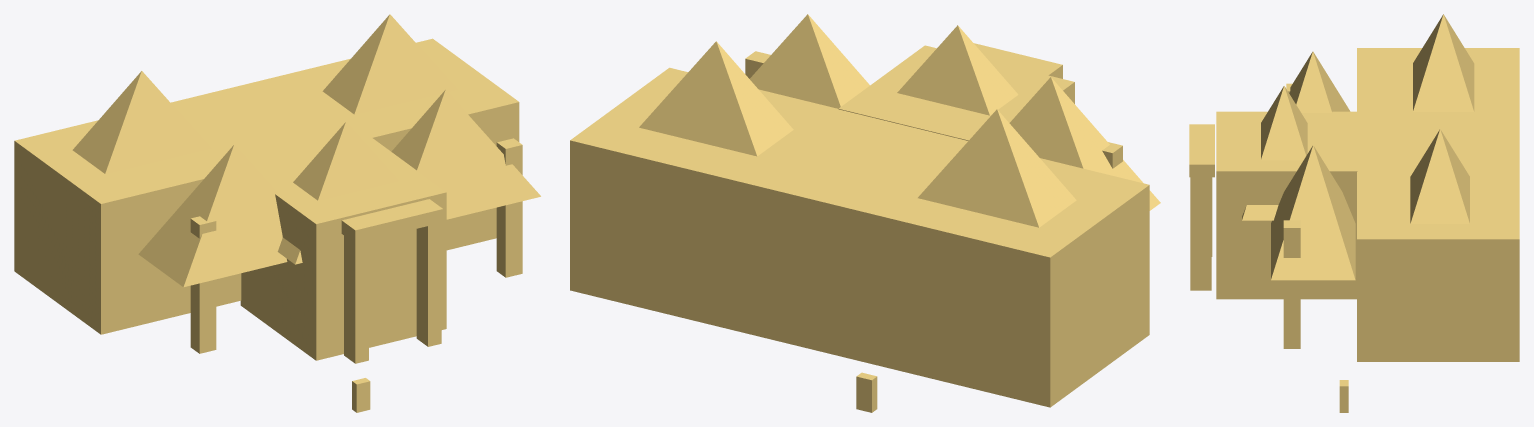
Rendered from ADMINYELLOW.glb.
3 renders of one model, left to right at view 1: azimuth 30°, elevation 25°; view 2: azimuth 150°, elevation 25°; view 3: azimuth 270°, elevation 25°, orthographic. The views are drawn at different scales.
Parts seen in each view (by area): view 1: Cube.001, Cube, Cube.009, Cube.008, Cube.003, Cube.004, Cube.002, Cube.007, Cube.006, Cube.005, Cube.010, Cube.011; view 2: Cube.001, Cube.003, Cube.004, Cube, Cube.008, Cube.009, Cube.002, Cube.005; view 3: Cube.001, Cube, Cube.008, Cube.003, Cube.004, Cube.002, Cube.007, Cube.009, Cube.010, Cube.005.
Boxes of the visible parts, x1,y1,x2,y2 form: Cube.001: (14, 38, 519, 334); Cube: (240, 137, 446, 360); Cube.009: (138, 145, 287, 287); Cube.008: (391, 89, 540, 219); Cube.003: (322, 14, 456, 412); Cube.004: (72, 71, 210, 173); Cube.002: (277, 122, 398, 264); Cube.007: (416, 223, 441, 346); Cube.006: (344, 235, 368, 363); Cube.005: (341, 199, 443, 243); Cube.010: (496, 138, 522, 277); Cube.011: (190, 216, 216, 353); Cube.001: (570, 67, 1149, 407); Cube.003: (639, 41, 877, 412); Cube.004: (918, 109, 1076, 227); Cube: (838, 45, 1074, 140); Cube.008: (750, 14, 869, 108); Cube.009: (1009, 77, 1160, 210); Cube.002: (897, 25, 1018, 115); Cube.005: (974, 43, 1062, 78); Cube.001: (1357, 48, 1519, 361); Cube: (1216, 111, 1357, 299); Cube.008: (1271, 145, 1355, 280); Cube.003: (1339, 129, 1469, 412); Cube.004: (1413, 14, 1474, 111); Cube.002: (1242, 86, 1307, 220); Cube.007: (1190, 177, 1211, 290); Cube.009: (1289, 51, 1350, 112); Cube.010: (1283, 220, 1300, 348); Cube.005: (1189, 124, 1214, 177).
Bounding box in the file's own units: 51.28 × 39.91 × 37.35.
